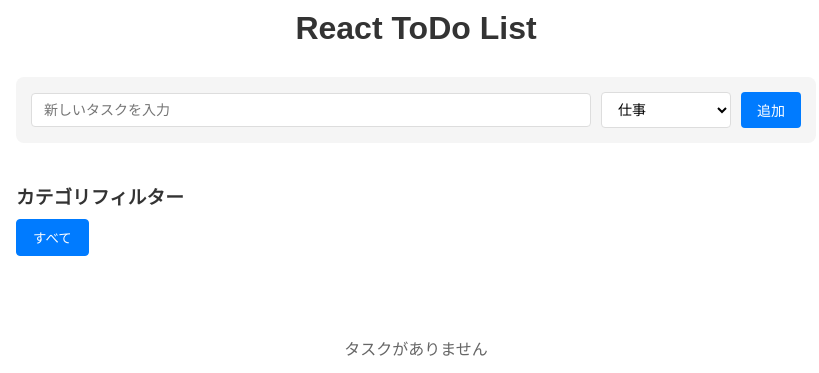
App Integration Tests › persists todos in localStorage
The width and height of the screenshot is (819, 373).
Step 1. Type "Persistent todo" into the field with placeholder "新しいタスクを入力" → (311,110), box [31, 93, 591, 127]
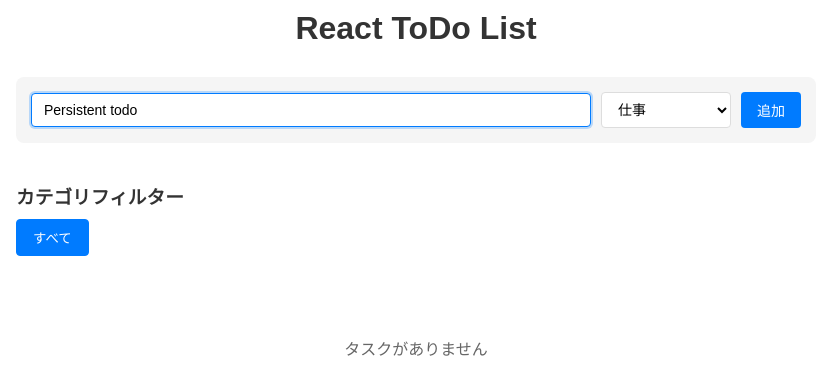
Step 2. Click the button "追加" → (771,110), box [741, 92, 801, 128]
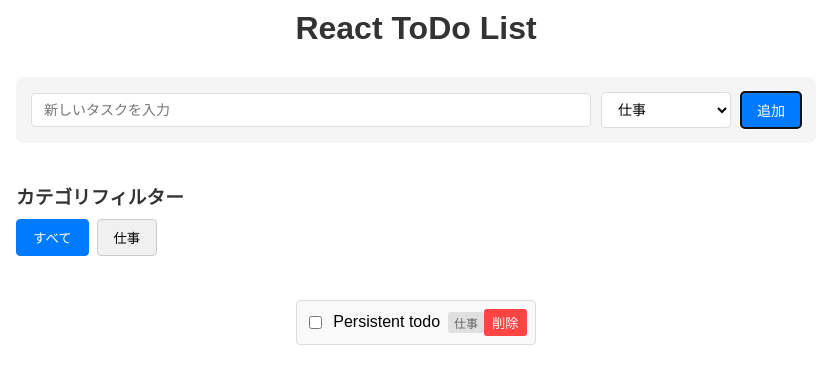
Result: the text "Persistent todo" is shown at [333, 313, 440, 331]
